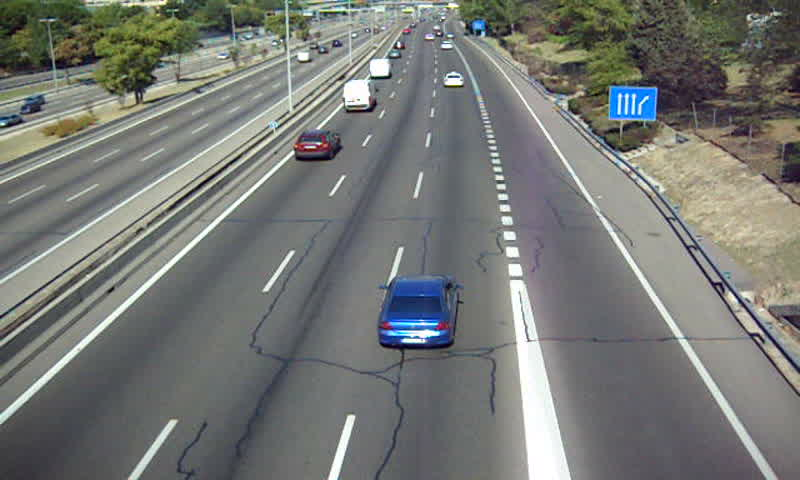car: (377, 275, 456, 349), (292, 130, 343, 159), (444, 73, 465, 87), (387, 48, 402, 60)
van: (342, 79, 377, 111), (369, 59, 391, 78)
